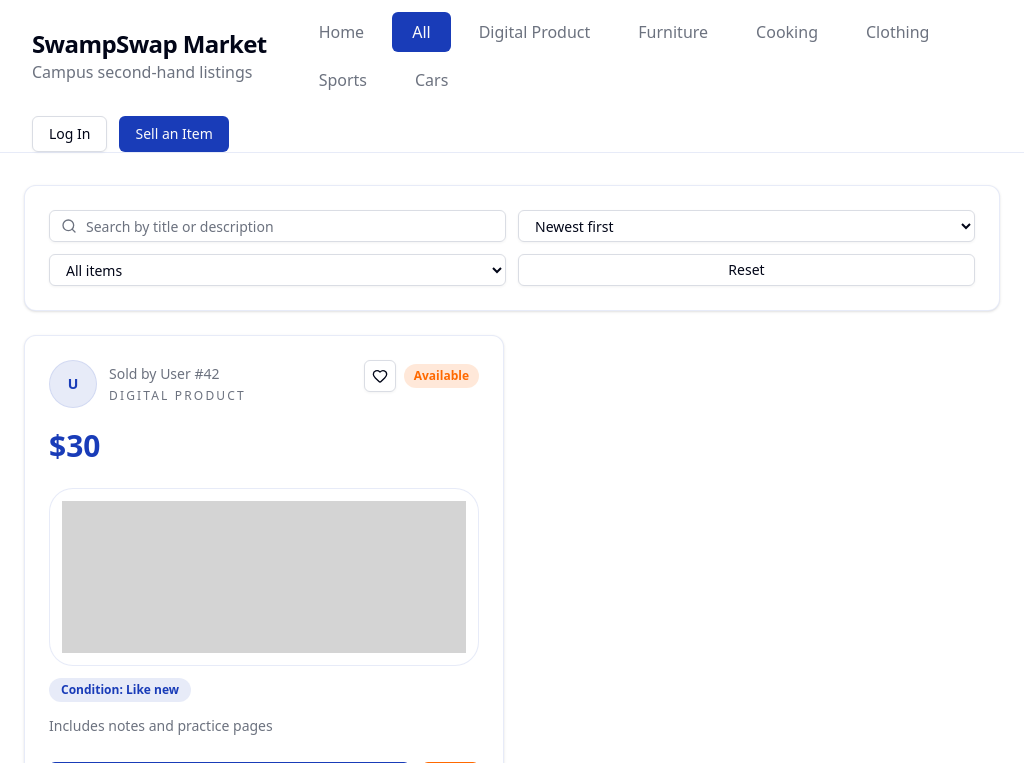
Test case: ListingsPage › saves and unsaves a listing from a marketplace card
This screenshot has width=1024, height=763.
expect the text "Includes notes and practice pages" is shown: met, box [49,716,273,735]
Click the button named "Save Calculus Textbook". click: coordinates (380, 376)
box: [364,360,396,392]
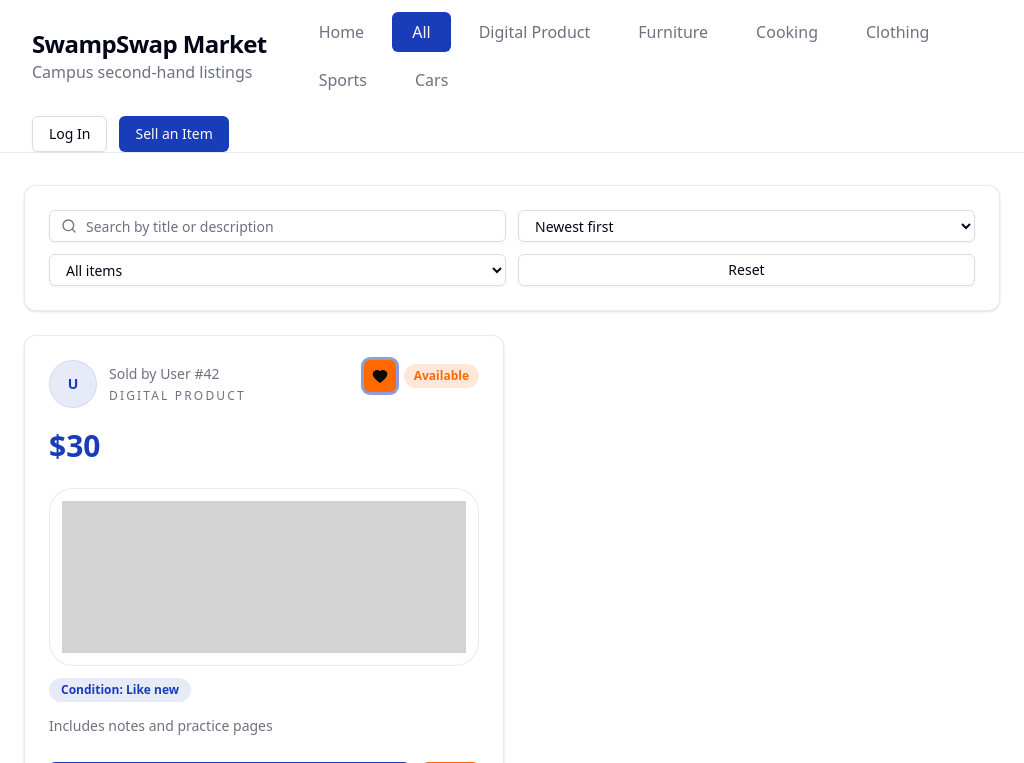
expect the button named "Remove Calculus Textbook from saved listings" is shown: met
Click the button named "Remove Calculus Textbook from saved listings". click: coordinates (380, 376)
box: [364,360,396,392]
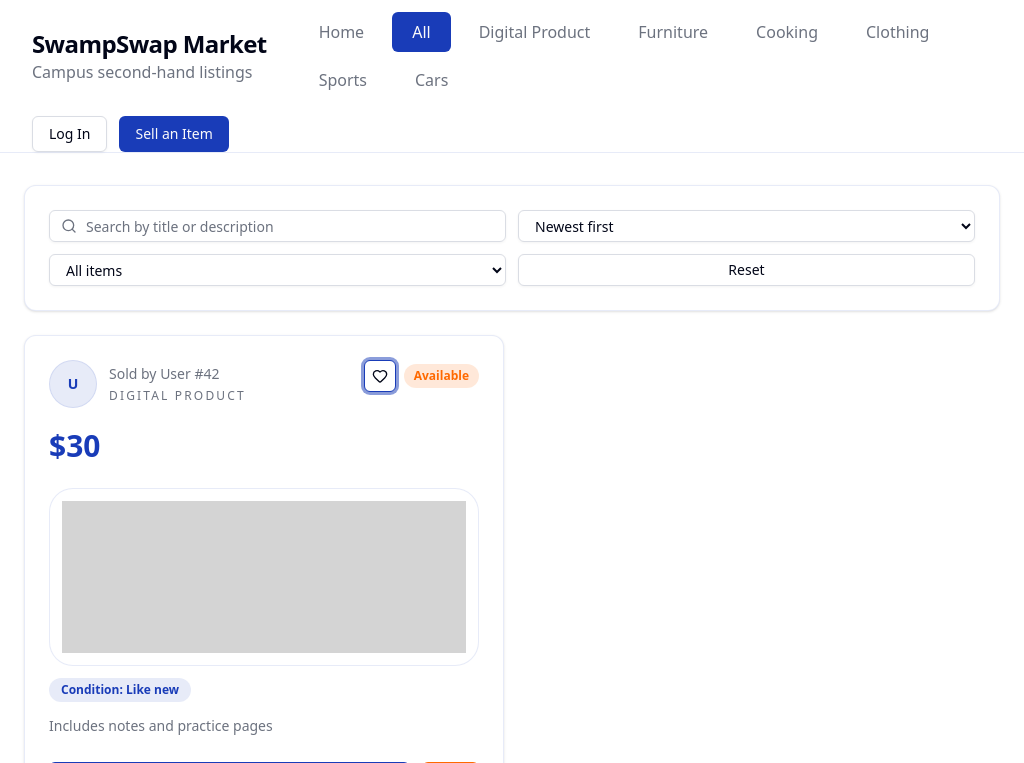
expect the button named "Save Calculus Textbook" is shown: met, box [364,360,396,392]
